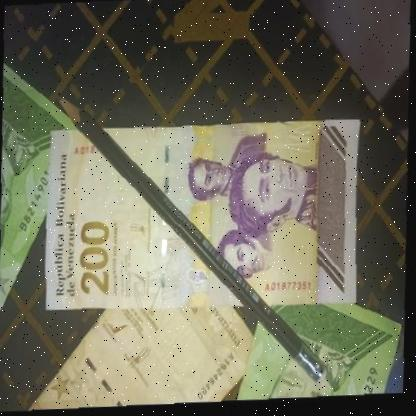fifty-front-vef: (0, 59, 83, 314), (236, 290, 409, 408)
five-front-vef: (23, 301, 254, 415)
two_hundred-front-vef: (43, 117, 362, 316)
